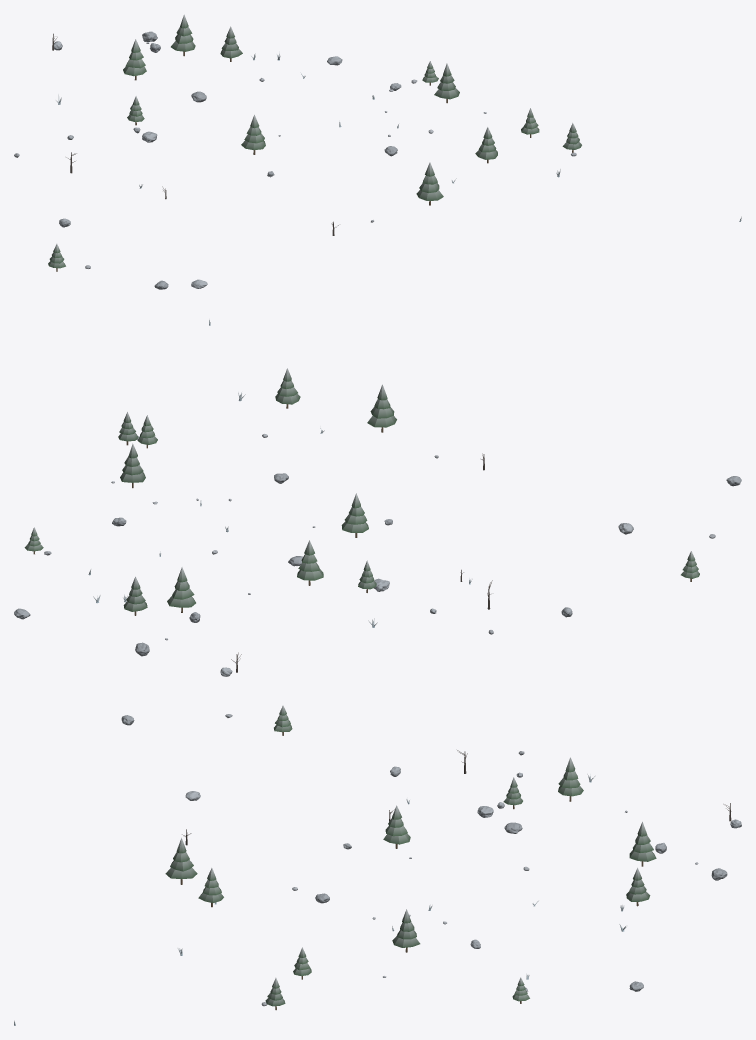
The model's file is frost_land_scatter_c20_12.glb.
3 views of the same model, one above another, from view 1: azimuth 30°, elevation 25°; view 2: azimuth 150°, elevation 25°; view 3: azimuth 270°, elevation 25° (orthographic). The views are drawn at different scales.
Visible parts, largest first — view 1: frost_land_scatter_c20_12; view 2: frost_land_scatter_c20_12; view 3: frost_land_scatter_c20_12.
Boxes of the visible parts, bbox=[...] form: frost_land_scatter_c20_12: bbox=[14, 14, 741, 289]; frost_land_scatter_c20_12: bbox=[14, 319, 741, 676]; frost_land_scatter_c20_12: bbox=[14, 705, 741, 1025].
Bounding box in the file's own units: 204 × 35.75 × 209.
